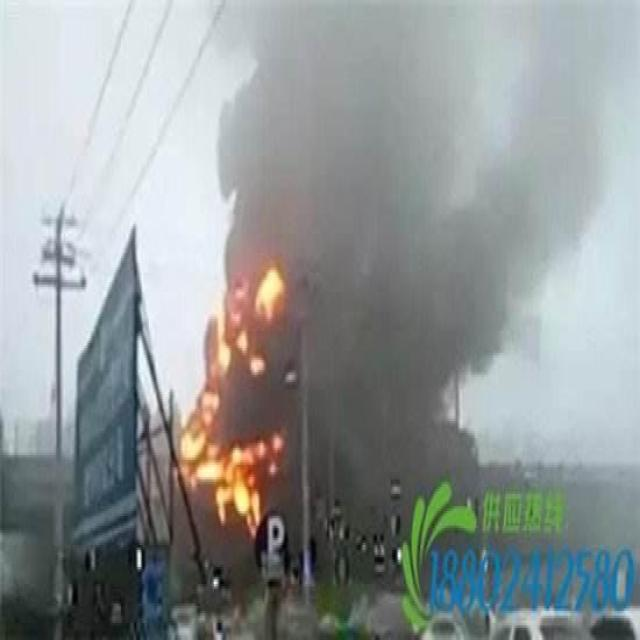fire: (182, 251, 290, 545)
smoke: (286, 17, 572, 541), (227, 46, 278, 240)
